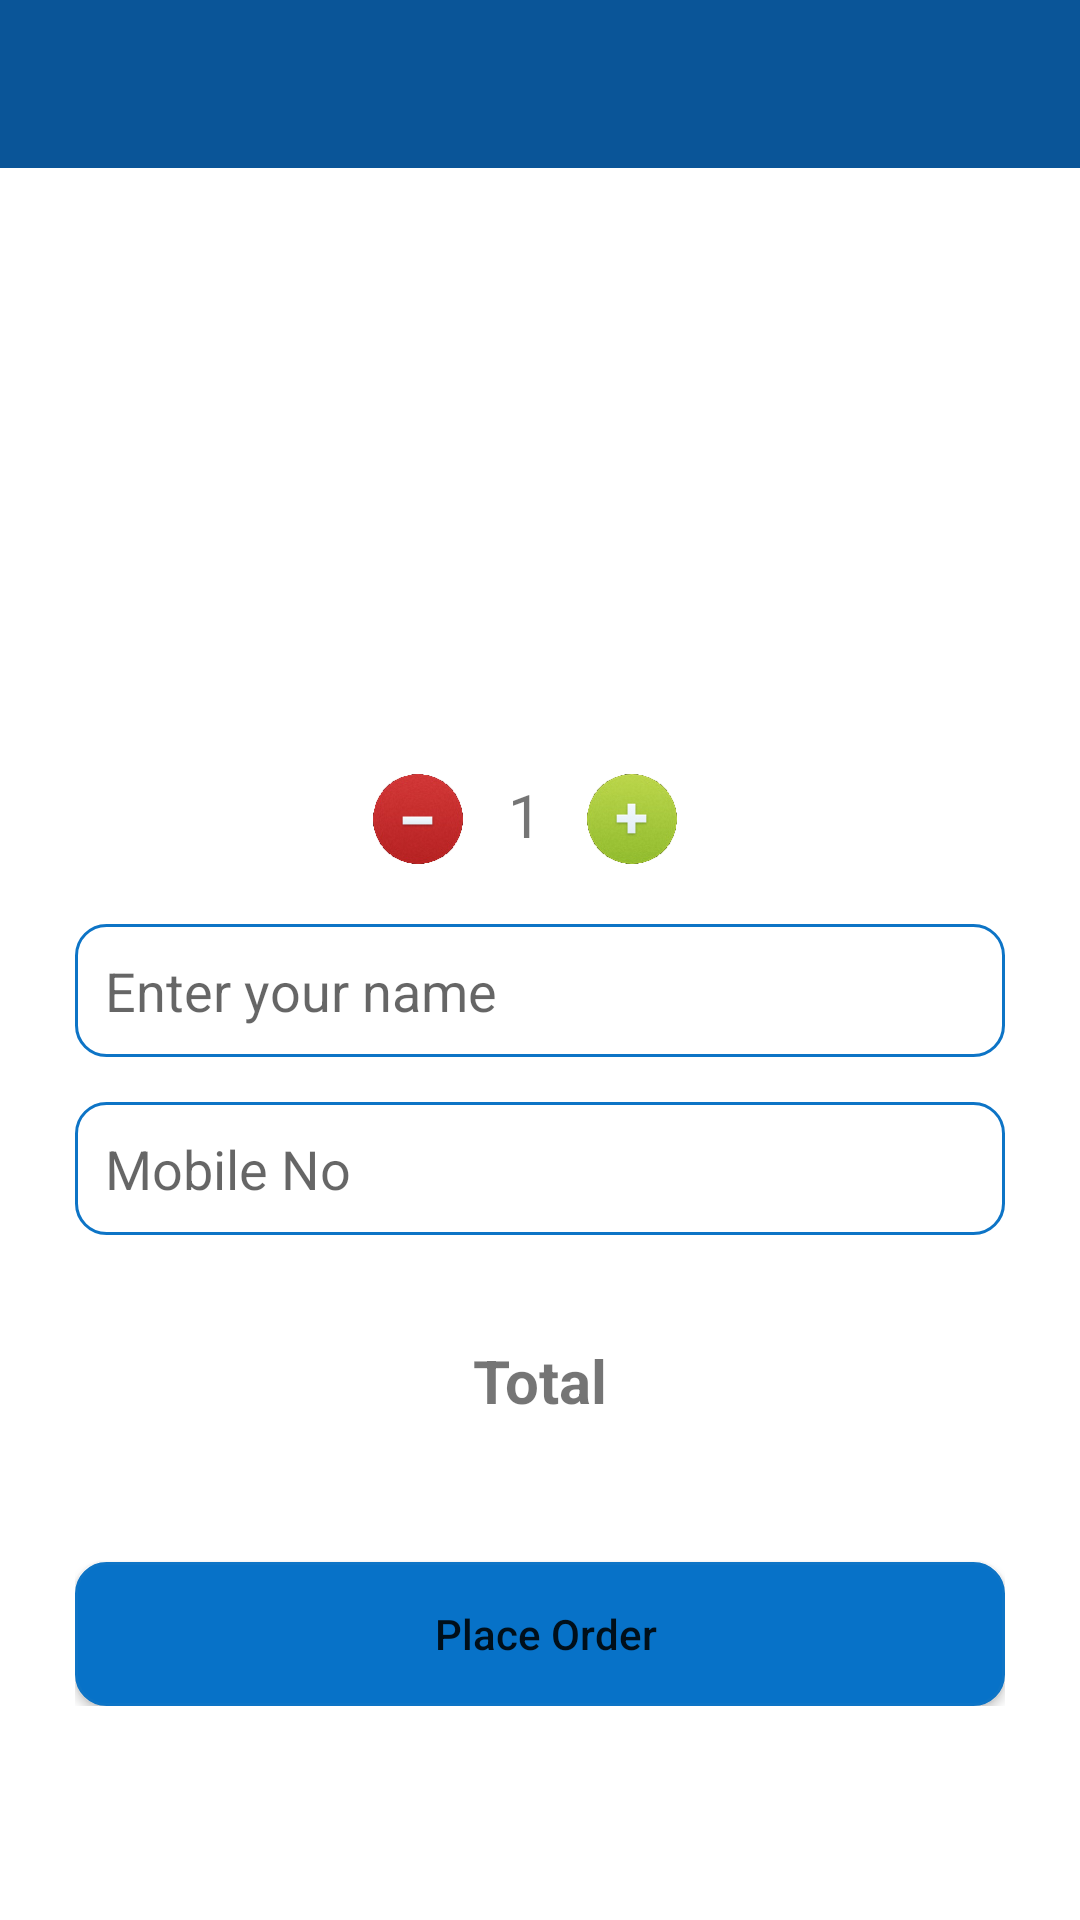

Screen size 1080 × 1920. Icon name, then its box in pixels as [left=x1, top=y1, right=x2, bottom=y2]:
add: [left=587, top=774, right=677, bottom=864]
minus: [left=373, top=774, right=463, bottom=864]
